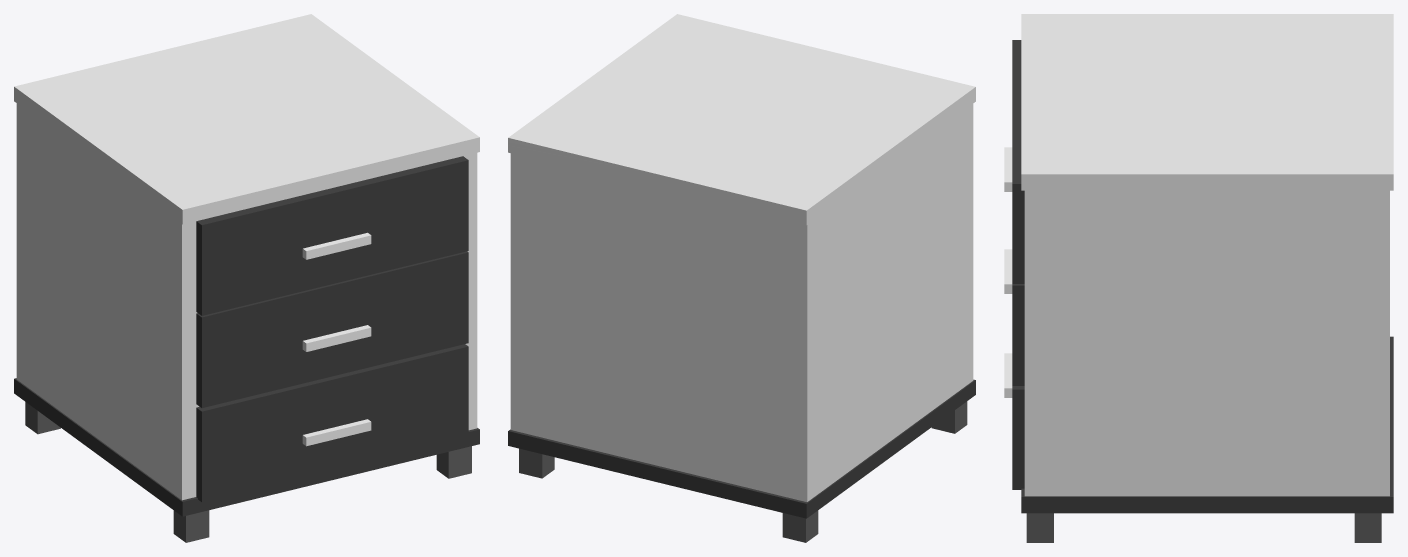
File: shelf_073.glb
3 views of the same model, side by side, from view 1: azimuth 30°, elevation 25°; view 2: azimuth 150°, elevation 25°; view 3: azimuth 270°, elevation 25° (orthographic). The views are drawn at different scales.
Parts seen in each view (by area): view 1: shelf_073; view 2: shelf_073; view 3: shelf_073.
Part boxes in pixels (x1,y1,x2,y2): shelf_073: (14,14,479,542); shelf_073: (508,14,975,542); shelf_073: (1004,14,1393,542).
Bounding box in the file's own units: 0.5383 × 0.5819 × 0.5522.
Materials: 1 (1 with a texture image).
